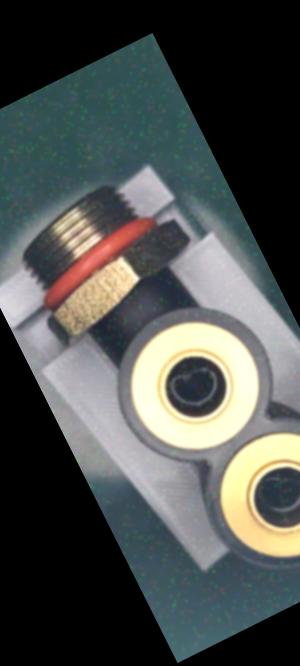joint line: (124, 289, 145, 322)
off-centered: (156, 342, 234, 421), (245, 455, 300, 528)
